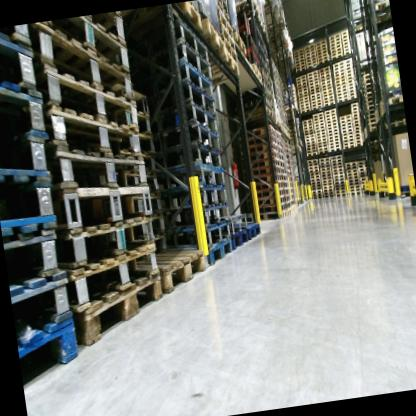pallet: (0, 0, 392, 47), (34, 49, 136, 147), (60, 269, 174, 353), (63, 237, 168, 323), (31, 16, 134, 103), (48, 174, 166, 246), (49, 129, 154, 202), (43, 92, 144, 167), (57, 217, 161, 275), (2, 219, 73, 297), (8, 271, 78, 349), (47, 18, 129, 84), (15, 316, 84, 392), (143, 67, 217, 129), (0, 155, 59, 231), (0, 68, 52, 152), (143, 117, 221, 165), (154, 129, 225, 178), (132, 245, 203, 293), (145, 94, 217, 141), (0, 24, 44, 97), (158, 177, 235, 218), (161, 54, 220, 107), (157, 160, 227, 198), (160, 202, 233, 235), (171, 36, 214, 89), (170, 219, 234, 254), (197, 42, 243, 90), (230, 26, 264, 88), (197, 11, 230, 70), (169, 16, 205, 64), (195, 237, 236, 271), (175, 1, 203, 38), (94, 13, 127, 38), (241, 129, 277, 151), (235, 105, 274, 125), (232, 0, 261, 25), (242, 120, 276, 141), (215, 3, 234, 38), (257, 0, 275, 36), (248, 155, 280, 173), (255, 192, 286, 210), (351, 11, 374, 35), (245, 141, 278, 157), (246, 148, 279, 164), (255, 208, 287, 224), (253, 178, 282, 195), (250, 164, 281, 179), (229, 228, 250, 250), (383, 114, 406, 133), (383, 92, 403, 112), (253, 203, 286, 215), (221, 23, 235, 50), (252, 172, 282, 184), (216, 0, 233, 21), (248, 222, 264, 242), (223, 38, 236, 62), (257, 188, 284, 199), (369, 125, 385, 136), (366, 122, 380, 130), (330, 49, 344, 57), (330, 52, 344, 60), (261, 34, 270, 46), (365, 117, 380, 124), (336, 113, 351, 120), (343, 159, 357, 166), (301, 43, 315, 50), (329, 43, 343, 50), (329, 46, 343, 53), (271, 113, 278, 127), (316, 51, 328, 59), (363, 82, 376, 89), (311, 111, 324, 118), (332, 60, 345, 67), (329, 40, 342, 47), (361, 78, 376, 84), (337, 117, 352, 123), (319, 72, 330, 80), (309, 81, 320, 89), (293, 51, 304, 59), (349, 190, 366, 195), (364, 104, 376, 111), (361, 74, 375, 80), (340, 131, 354, 137), (322, 91, 334, 98), (318, 66, 330, 73), (306, 70, 318, 77), (304, 50, 316, 57), (329, 37, 341, 44), (275, 117, 282, 129), (316, 45, 326, 53), (332, 171, 345, 177), (331, 164, 344, 170), (340, 124, 353, 130), (327, 134, 340, 140), (323, 108, 336, 114), (332, 65, 345, 71), (274, 132, 280, 145), (301, 118, 312, 125), (335, 77, 346, 84), (321, 85, 332, 92), (308, 73, 319, 80), (295, 74, 306, 81), (297, 87, 308, 94), (295, 63, 306, 70), (294, 57, 305, 64), (293, 48, 304, 55), (277, 144, 284, 155), (365, 110, 377, 116), (307, 167, 319, 173), (310, 185, 322, 191), (331, 161, 343, 167), (330, 154, 342, 160), (346, 168, 358, 174), (349, 186, 361, 192), (356, 159, 368, 165), (324, 118, 336, 124), (326, 121, 338, 127), (312, 115, 324, 121), (313, 125, 325, 131), (334, 74, 346, 80), (335, 80, 347, 86), (336, 90, 348, 96), (323, 98, 335, 104), (321, 89, 333, 95), (319, 76, 331, 82), (320, 79, 332, 85), (309, 89, 321, 95), (310, 101, 322, 107), (303, 47, 315, 53), (304, 53, 316, 59), (305, 56, 317, 62), (305, 59, 317, 65), (317, 58, 329, 64), (279, 158, 285, 170), (274, 128, 282, 137), (326, 131, 340, 136), (347, 91, 357, 98), (318, 55, 328, 62), (308, 170, 319, 176), (319, 159, 330, 165), (334, 182, 345, 188), (358, 173, 369, 179), (343, 143, 354, 149), (325, 116, 336, 122), (325, 112, 336, 118), (334, 71, 345, 77), (323, 95, 334, 101), (319, 70, 330, 76), (310, 95, 321, 101), (295, 78, 306, 84), (296, 81, 307, 87), (298, 98, 309, 104), (306, 63, 317, 69), (316, 49, 327, 55), (366, 114, 379, 119), (332, 174, 345, 179), (331, 168, 344, 173), (330, 158, 343, 163), (345, 165, 358, 170), (346, 174, 359, 179), (339, 121, 352, 126), (341, 134, 354, 139), (342, 140, 355, 145), (315, 137, 328, 142), (336, 97, 349, 102), (350, 101, 359, 108), (306, 158, 318, 163), (309, 177, 321, 182), (318, 156, 330, 161), (320, 173, 332, 178), (323, 193, 335, 198), (334, 192, 346, 197), (334, 189, 346, 194), (347, 178, 359, 183), (348, 184, 360, 189), (342, 138, 354, 143), (330, 147, 342, 152), (327, 137, 339, 142), (314, 128, 326, 133), (315, 131, 327, 136), (315, 133, 327, 138), (316, 140, 328, 145), (317, 146, 329, 151), (306, 151, 318, 156), (305, 143, 317, 148), (333, 68, 345, 73), (335, 87, 347, 92), (336, 94, 348, 99), (324, 102, 336, 107), (320, 83, 332, 88), (309, 85, 319, 91), (297, 84, 307, 90), (294, 55, 304, 61), (316, 43, 326, 49), (326, 129, 340, 133), (283, 188, 290, 196), (280, 173, 287, 181), (307, 161, 318, 166), (307, 164, 318, 169), (309, 174, 320, 179), (310, 182, 321, 187), (311, 189, 322, 194), (319, 163, 330, 168), (320, 170, 331, 175), (320, 175, 331, 180), (322, 182, 333, 187), (348, 181, 359, 186), (358, 167, 369, 172), (329, 144, 340, 149), (326, 125, 337, 130), (314, 122, 325, 127), (317, 143, 328, 148), (306, 149, 317, 154), (306, 146, 317, 151), (304, 131, 315, 136), (303, 128, 314, 133), (302, 123, 313, 128), (308, 80, 319, 85), (310, 98, 321, 103), (311, 104, 322, 109), (297, 90, 308, 95), (298, 93, 309, 98), (299, 105, 310, 110), (332, 177, 345, 181), (339, 129, 352, 133), (365, 97, 375, 102), (322, 178, 332, 183), (304, 134, 314, 139), (336, 85, 346, 90), (310, 92, 320, 97), (298, 95, 308, 100), (299, 102, 309, 107), (285, 208, 292, 215), (281, 180, 288, 187), (363, 88, 371, 94), (322, 191, 334, 195), (333, 187, 345, 191), (333, 180, 345, 184), (346, 172, 358, 176), (328, 141, 340, 145), (353, 129, 361, 135), (342, 43, 350, 49), (342, 47, 350, 53), (285, 202, 291, 210), (284, 195, 290, 203), (278, 151, 284, 159), (366, 100, 375, 105), (344, 66, 353, 71), (296, 66, 305, 71), (310, 180, 321, 184), (311, 192, 322, 196), (312, 195, 323, 199), (320, 167, 331, 171), (323, 188, 334, 192), (358, 164, 369, 168), (313, 119, 324, 123), (318, 150, 329, 154), (305, 140, 316, 144), (304, 138, 315, 142), (307, 77, 318, 81), (294, 62, 305, 66), (353, 126, 360, 132), (279, 167, 285, 174), (358, 171, 368, 175), (303, 126, 313, 130), (350, 109, 358, 114), (351, 113, 359, 118), (345, 69, 353, 74), (346, 75, 354, 80), (341, 30, 349, 35), (341, 37, 349, 42), (342, 40, 350, 45), (360, 177, 369, 181), (348, 95, 357, 99), (364, 93, 371, 98), (360, 180, 367, 185), (347, 79, 354, 84), (341, 33, 348, 38), (322, 186, 333, 189), (352, 120, 360, 124), (354, 133, 362, 137), (355, 142, 363, 146), (348, 85, 356, 89), (348, 82, 356, 86), (344, 59, 352, 63), (361, 184, 368, 188), (353, 123, 360, 127), (355, 136, 362, 140), (355, 139, 362, 143), (345, 63, 352, 67), (346, 73, 353, 77), (348, 89, 356, 92), (351, 107, 358, 110), (352, 117, 359, 120), (362, 187, 366, 191)
